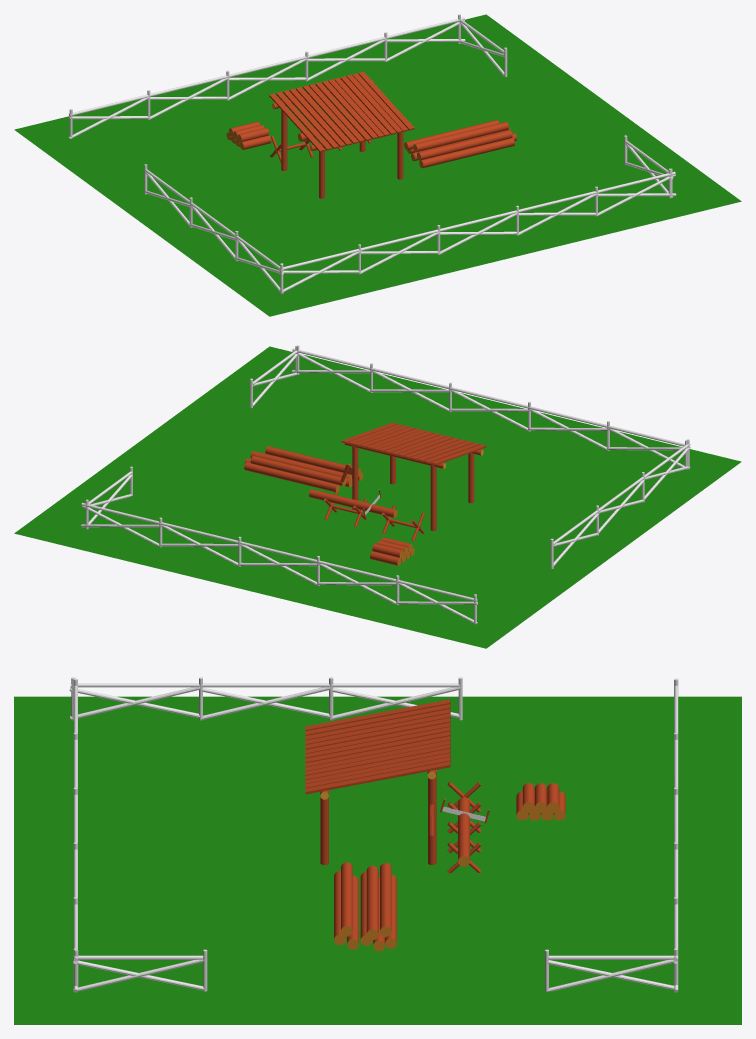
Rendered from SawmillAge1.fbx.
3 renders of one model, top to bottom at view 1: azimuth 30°, elevation 25°; view 2: azimuth 150°, elevation 25°; view 3: azimuth 270°, elevation 25°, orthographic. The views are drawn at different scales.
Parts seen in each view (by area): view 1: Plane.027; view 2: Plane.027; view 3: Plane.027.
Part boxes in pixels (left/top/right/bottom): Plane.027: left=14, top=14, right=741, bottom=316; Plane.027: left=14, top=345, right=741, bottom=648; Plane.027: left=14, top=677, right=741, bottom=1024.
Bounding box in the file's own units: 910 × 139 × 853.
